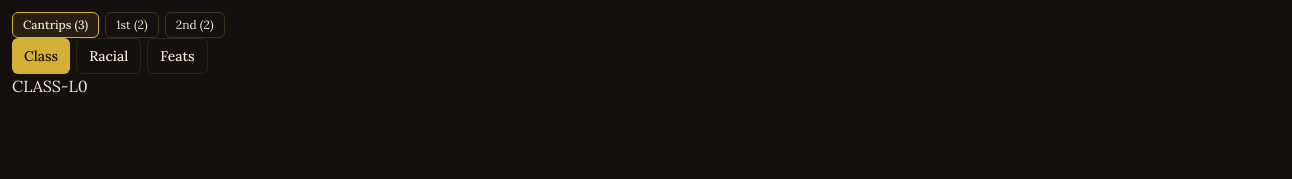
Test: SpellSourceLevelView › leveled racial spells › offers a Racial source above level 0 and shows the spell with its use control on its row
Expected: the element with test id "spell-level-tabs" is shown, top-left (12, 12), bottom-right (224, 38)
Click the button with test id "spell-level-tab-2" at (195, 25), box top-left (165, 12), bottom-right (225, 38)
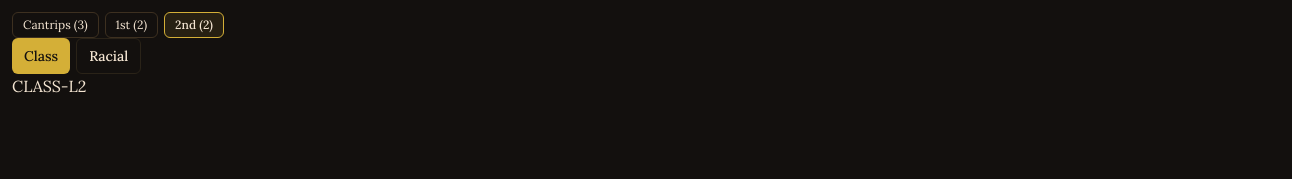
Click the button with test id "spell-source-racial" at (109, 56), box top-left (76, 38), bottom-right (141, 74)
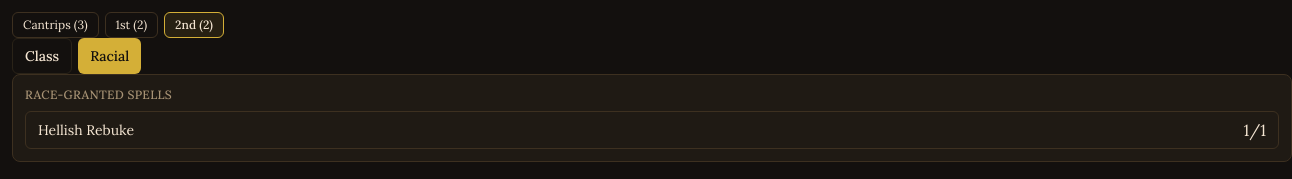
Expected: the number of buttons "Hellish Rebuke" is 1, top-left (38, 120), bottom-right (1236, 140)
Expected: the text "1/1" is shown, top-left (1244, 118), bottom-right (1266, 142)
